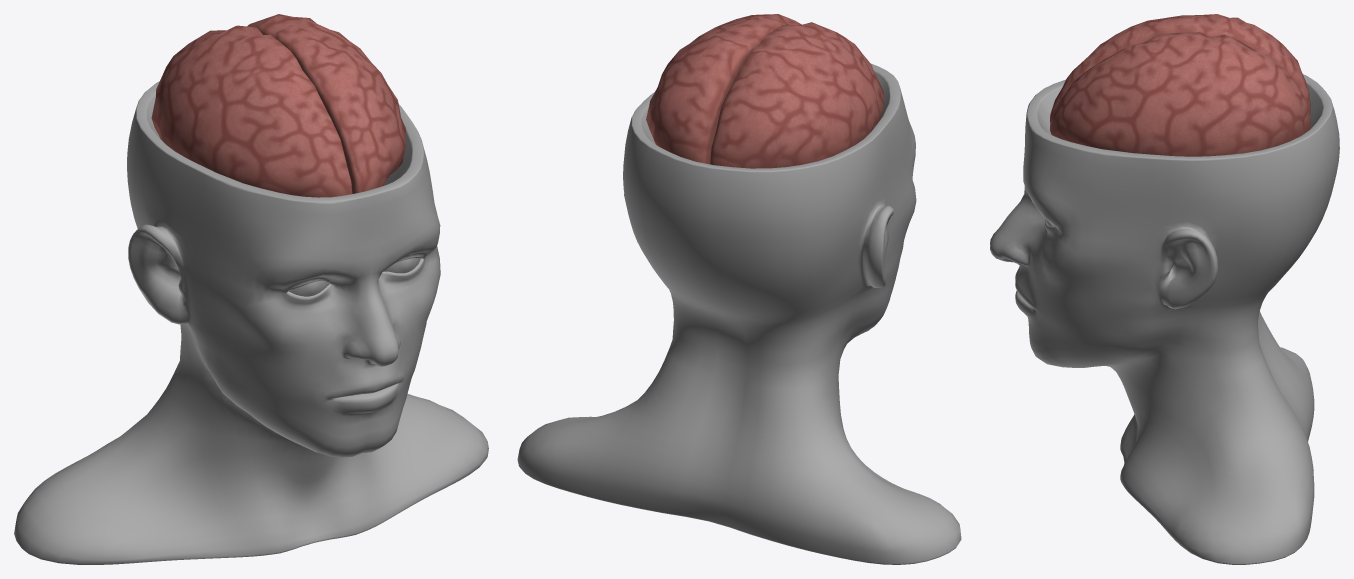
Rendered from brain_in_head.glb.
3 views of the same model, side by side, from view 1: azimuth 30°, elevation 25°; view 2: azimuth 150°, elevation 25°; view 3: azimuth 270°, elevation 25° (orthographic). The views are drawn at different scales.
Visible parts, largest first — view 1: Brain_In_Head_0; view 2: Brain_In_Head_0; view 3: Brain_In_Head_0.
Part boxes in pixels (<box>): Brain_In_Head_0: <box>14,14,488,564</box>; Brain_In_Head_0: <box>517,14,961,564</box>; Brain_In_Head_0: <box>990,14,1339,564</box>.
Bounding box in the file's own units: 8.38 × 8.46 × 6.14.
1 material, 1 textured.
